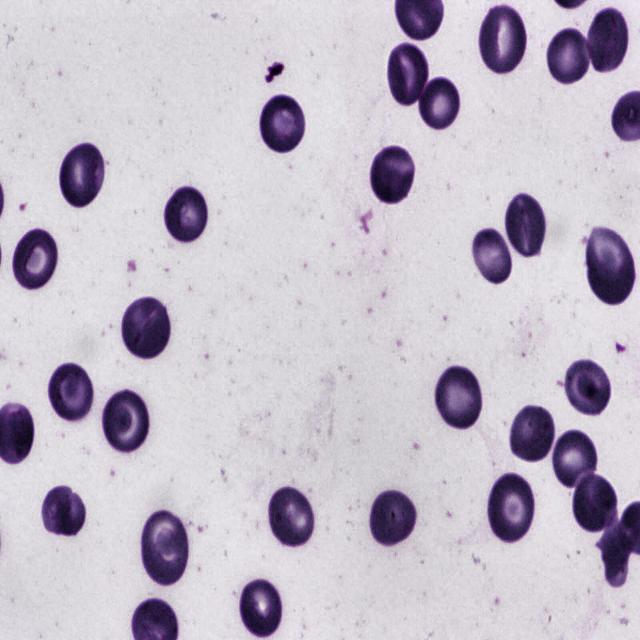red blood cell: (584, 223, 638, 304), (138, 511, 191, 586), (485, 472, 537, 546), (477, 2, 529, 76), (119, 294, 172, 364), (101, 386, 150, 459), (433, 364, 485, 430), (267, 483, 316, 552), (58, 140, 107, 208), (257, 91, 307, 155), (12, 227, 62, 291), (563, 358, 614, 420), (368, 143, 418, 206), (368, 487, 418, 550), (48, 360, 95, 426), (508, 403, 557, 464), (586, 5, 630, 72), (162, 183, 210, 244), (238, 576, 284, 639), (572, 469, 618, 532), (552, 429, 598, 491), (544, 27, 590, 88), (505, 193, 547, 258), (386, 42, 428, 105), (418, 72, 460, 133), (470, 228, 513, 287), (40, 488, 85, 536)
